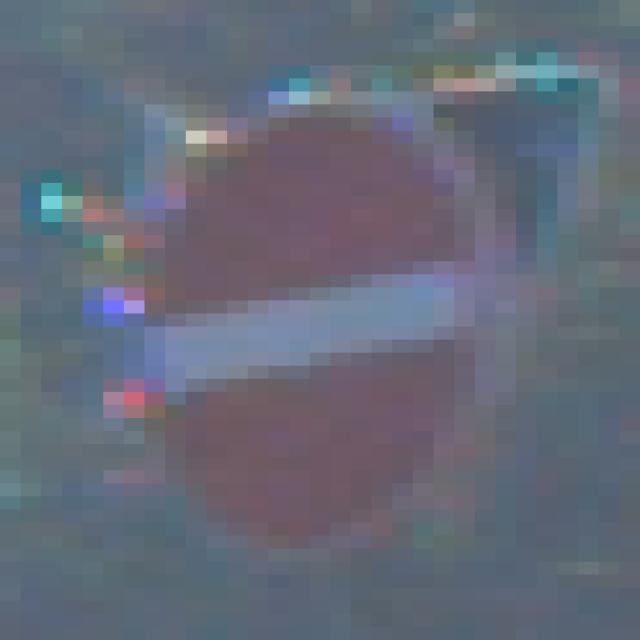No Entry: (104, 79, 538, 576)
